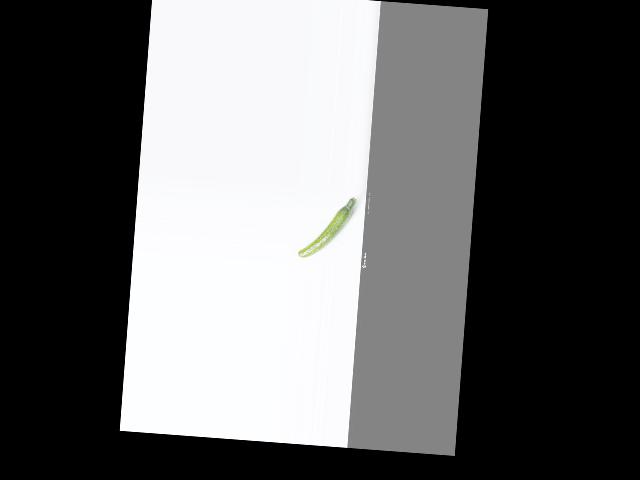cucumber: (298, 192, 356, 260)
